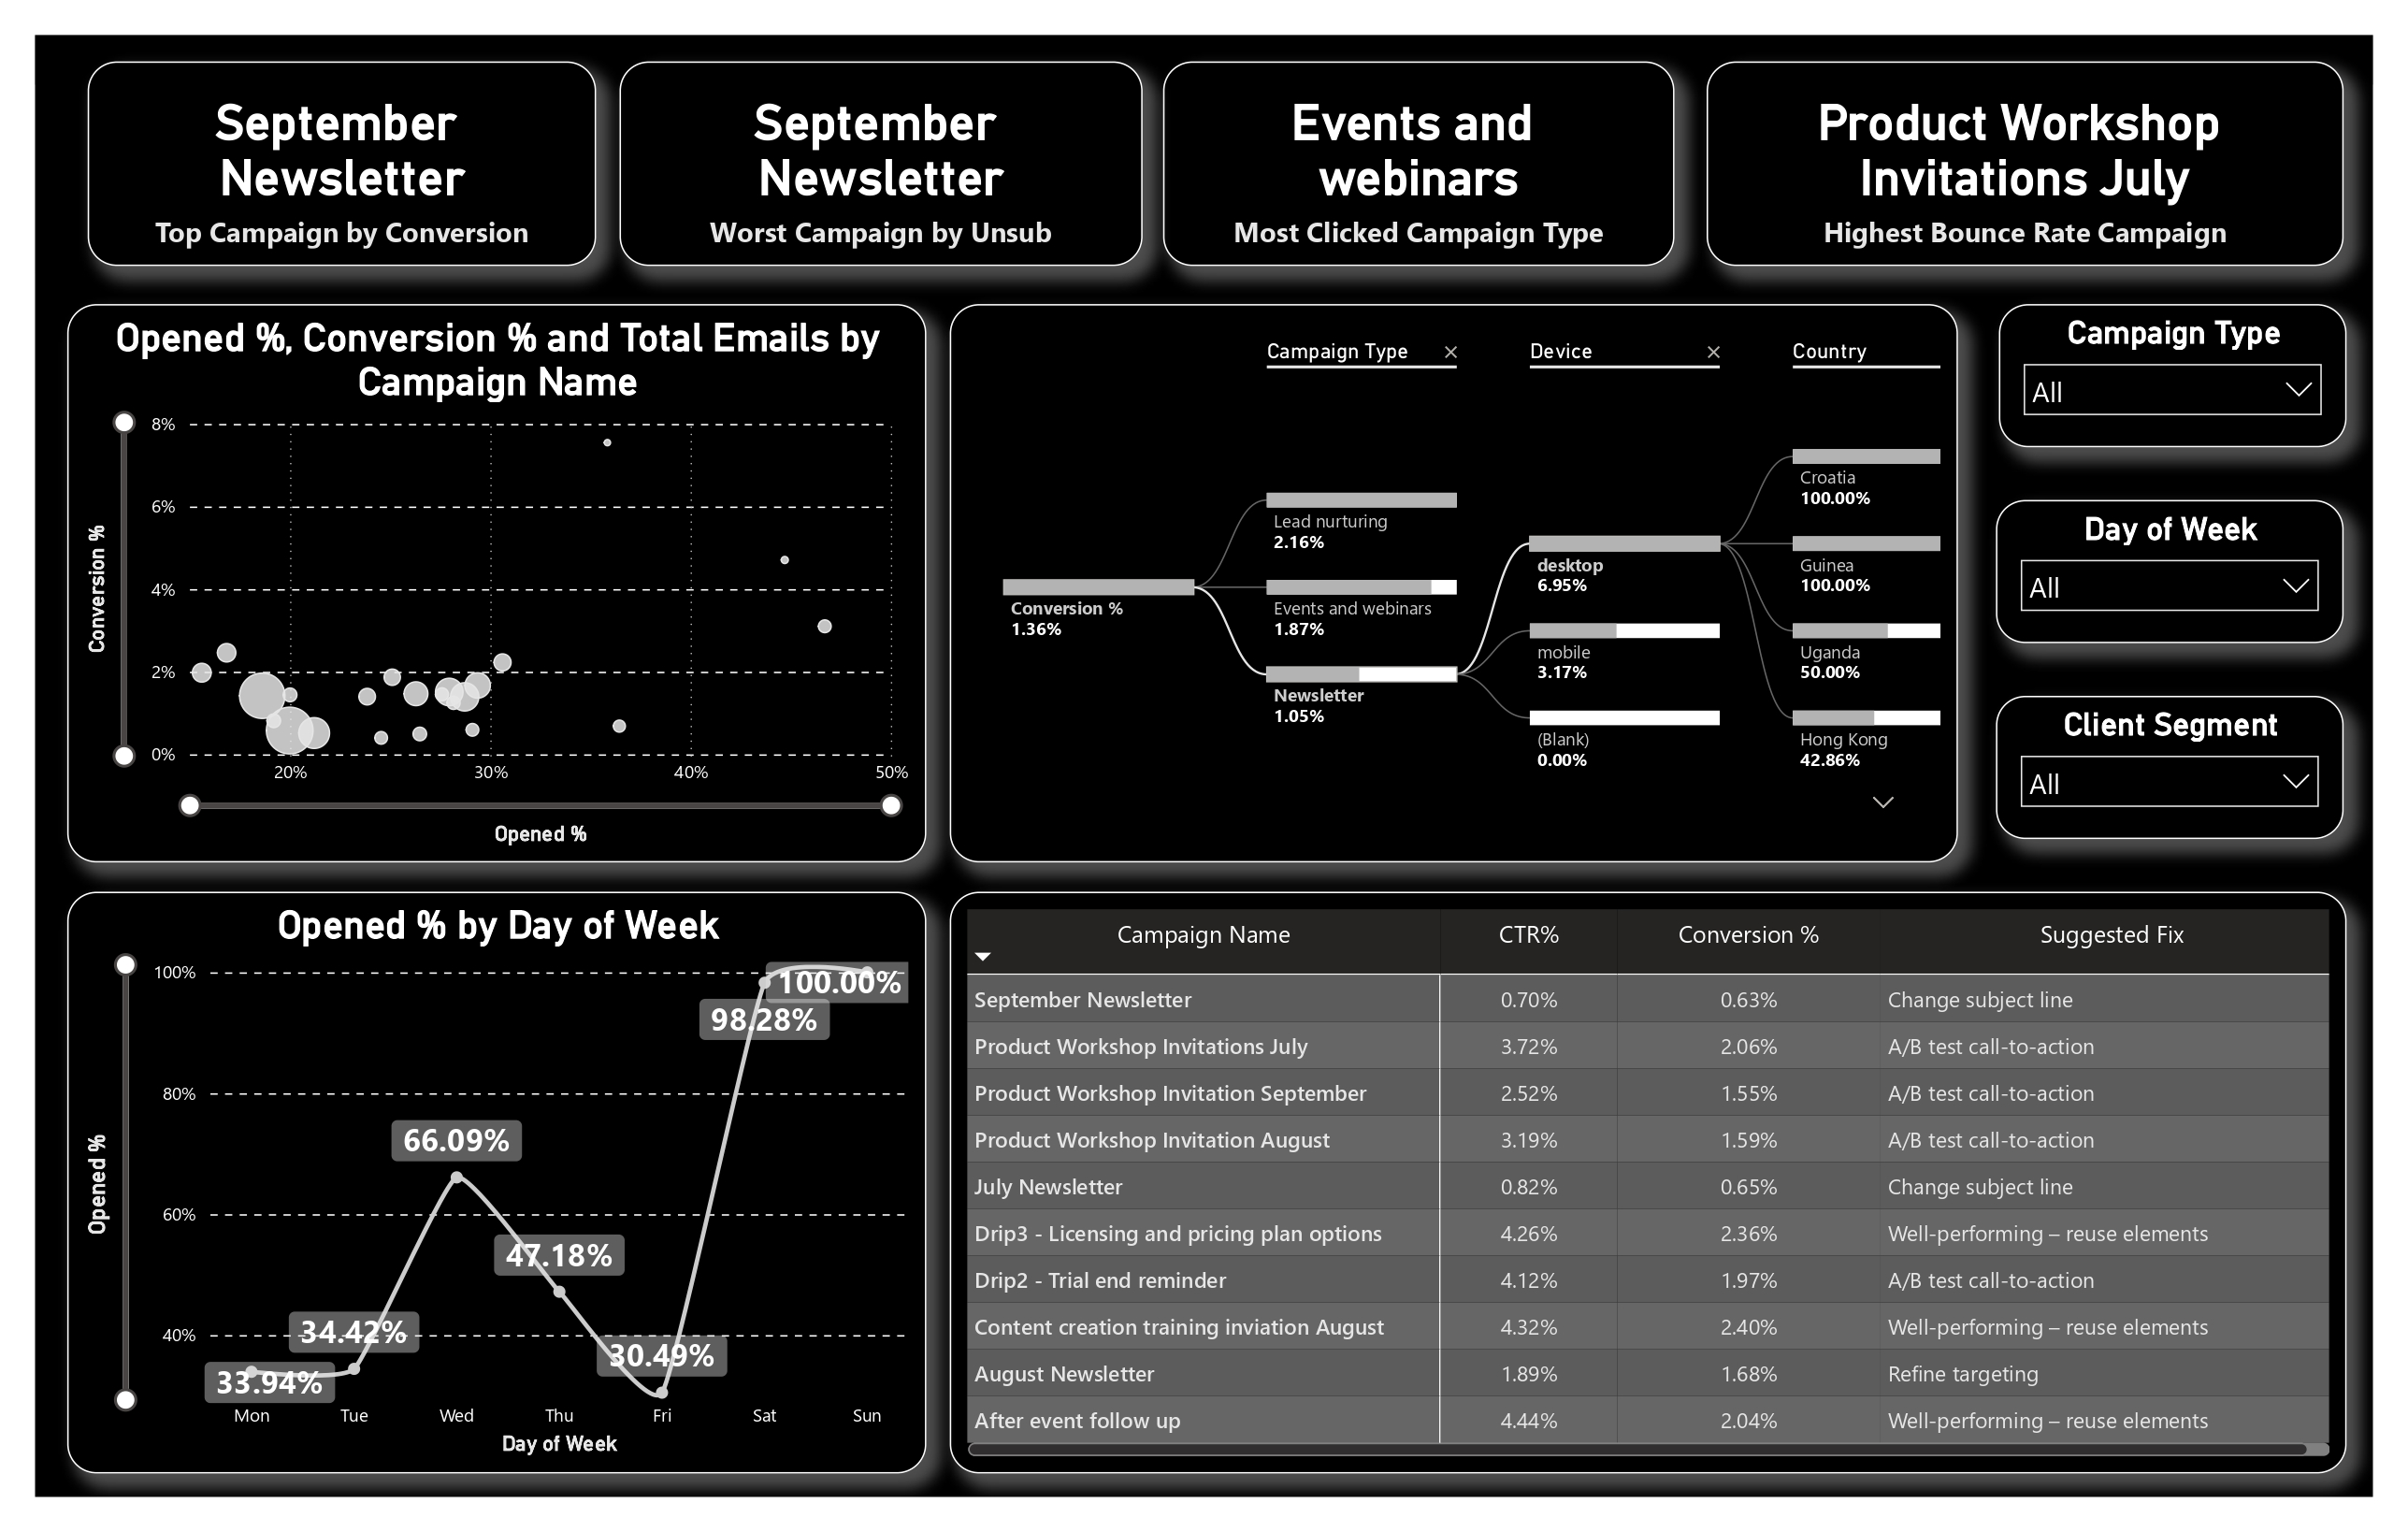

Layout of this report page (visuals, bound fields, positions):
{"tool":"powerbi","page":{"name":"Campaign Optimization Insights","canvas":[1600,1000],"ordinal":1},"visuals":[{"type":"card","fields":{"Values":["_Measure.Top Campaign by Conversion"]},"box":[36,18,348,140],"z":0},{"type":"card","fields":{"Values":["_Measure.Worst Campaign by Unsub"]},"box":[400,18,358,140],"z":2000},{"type":"card","fields":{"Values":["_Measure.Most Clicked Campaign Type"]},"box":[772,18,350,140],"z":3000},{"type":"card","fields":{"Values":["_Measure.Highest Bounce Rate Campaign"]},"box":[1144,18,436,140],"z":4000},{"type":"scatterChart","fields":{"Y":["_Measure.Conversion %"],"X":["_Measure.Opened %"],"Category":["email_data.Campaign Name"],"Size":["_Measure.Total Emails"]},"box":[22,184,588,382],"z":6000},{"type":"slicer","title":"Campaign Type","fields":{"Values":["email_data.Campaign Type"]},"box":[1344,184,238,98],"z":7000},{"type":"slicer","title":"Day of Week","fields":{"Values":["email_data.Day of Week"]},"box":[1342,318,238,98],"z":8000},{"type":"slicer","title":"Client Segment","fields":{"Values":["email_data.Campaign Type"]},"box":[1342,452,238,98],"z":9000},{"type":"lineChart","fields":{"Category":["email_data.Day of Week"],"Y":["_Measure.Opened %"]},"box":[22,586,588,398],"z":10000},{"type":"decompositionTreeVisual","fields":{"Analyze":["_Measure.Conversion %"],"ExplainBy":["email_data.Campaign Type","email_data.Device","email_data.Country"]},"box":[626,184,690,382],"z":11000},{"type":"pivotTable","fields":{"Rows":["email_data.Campaign Name"],"Values":["_Measure.CTR%","_Measure.Conversion %","_Measure.Suggested Fix"]},"box":[626,586,956,398],"z":12000}]}

Visuals, with their boxes in screenshot pixels (x1, y1, x2, y2):
card - _Measure.Top Campaign by Conversion: x1=88, y1=62, x2=597, y2=266
card - _Measure.Worst Campaign by Unsub: x1=619, y1=62, x2=1143, y2=266
card - _Measure.Most Clicked Campaign Type: x1=1163, y1=62, x2=1675, y2=266
card - _Measure.Highest Bounce Rate Campaign: x1=1707, y1=62, x2=2343, y2=266
scatterChart - _Measure.Conversion % x _Measure.Opened %: x1=67, y1=304, x2=927, y2=862
"Campaign Type" slicer: x1=1999, y1=304, x2=2346, y2=447
"Day of Week" slicer: x1=1996, y1=500, x2=2343, y2=643
"Client Segment" slicer: x1=1996, y1=696, x2=2343, y2=839
lineChart - email_data.Day of Week x _Measure.Opened %: x1=67, y1=891, x2=927, y2=1473
decompositionTreeVisual - _Measure.Conversion % x email_data.Campaign Type: x1=950, y1=304, x2=1958, y2=862
pivotTable - email_data.Campaign Name x _Measure.CTR%: x1=950, y1=891, x2=2346, y2=1473
